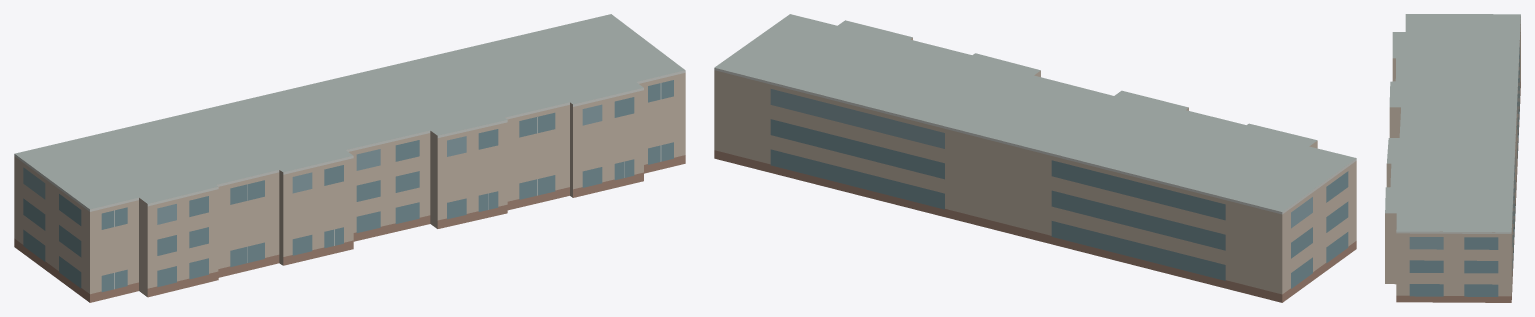
Rendered from survey-upis-32887154.glb.
The picture shows the model from 3 angles, left to right: view 1: azimuth 30°, elevation 25°; view 2: azimuth 150°, elevation 25°; view 3: azimuth 270°, elevation 25°; orthographic projection. The views are drawn at different scales.
Parts seen in each view (by area): view 1: survey-upis-32887154.tmp; view 2: survey-upis-32887154.tmp; view 3: survey-upis-32887154.tmp.
Part boxes in pixels (x1,y1,x2,y2): survey-upis-32887154.tmp: [14, 14, 685, 302]; survey-upis-32887154.tmp: [714, 14, 1356, 302]; survey-upis-32887154.tmp: [1385, 14, 1520, 302].
Size of the model in its own units: 60.58 by 9.15 by 15.94.
